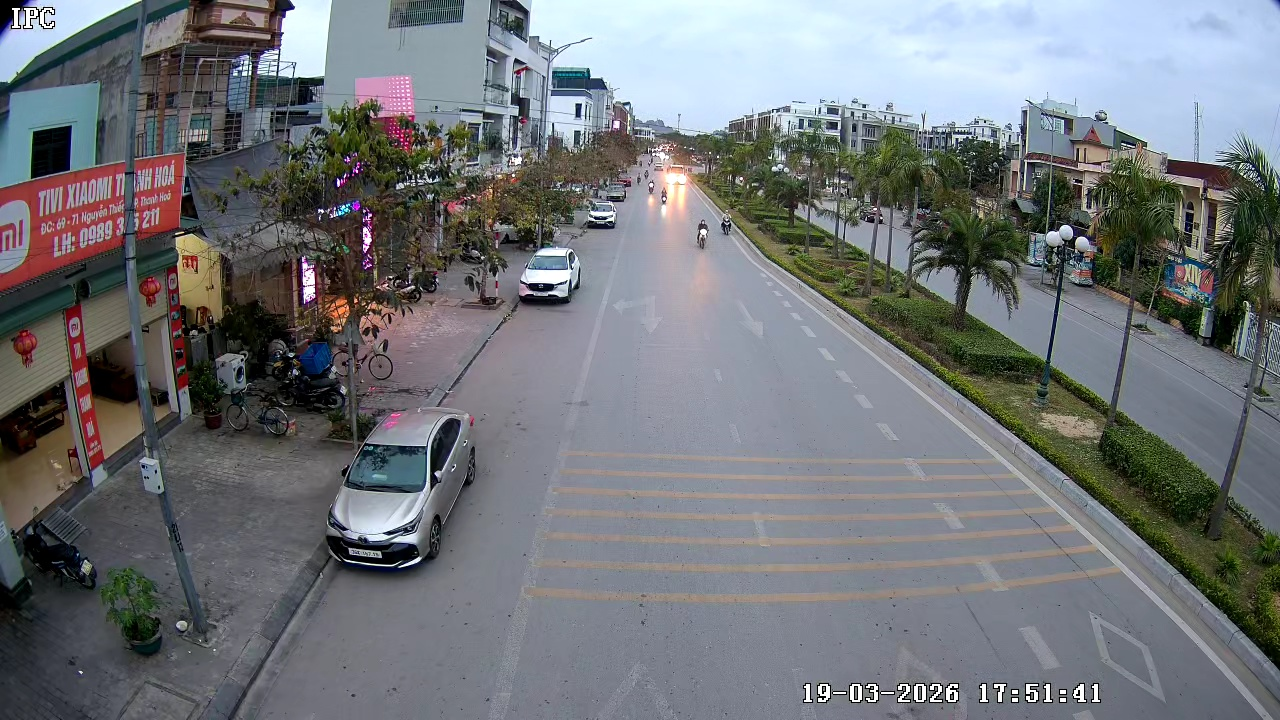bike: (354, 321, 396, 381)
car: (325, 405, 477, 571), (518, 246, 582, 304), (584, 197, 619, 229)
motorbike: (694, 217, 710, 250), (719, 210, 734, 238), (657, 187, 674, 208)
